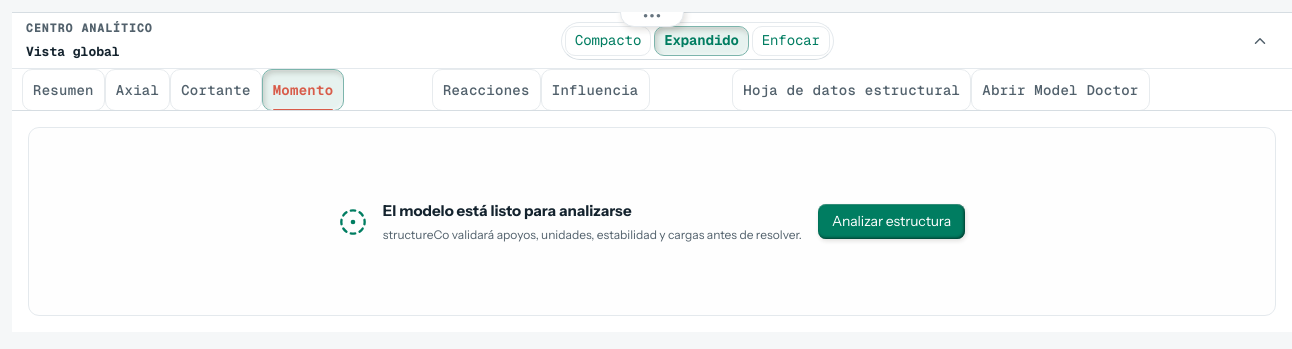
Test: Results analytical center › keeps a solved run legible in the collapsed dock
Click the button "Analizar estructura" at (892, 222), box [818,204,965,239]
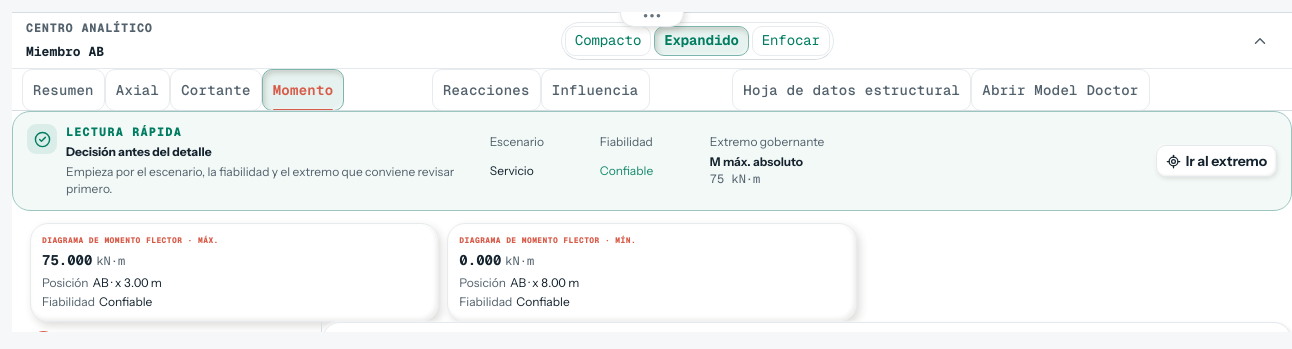
Click the button named "Cerrar resultados" at (1260, 41), box [1242,23,1278,59]
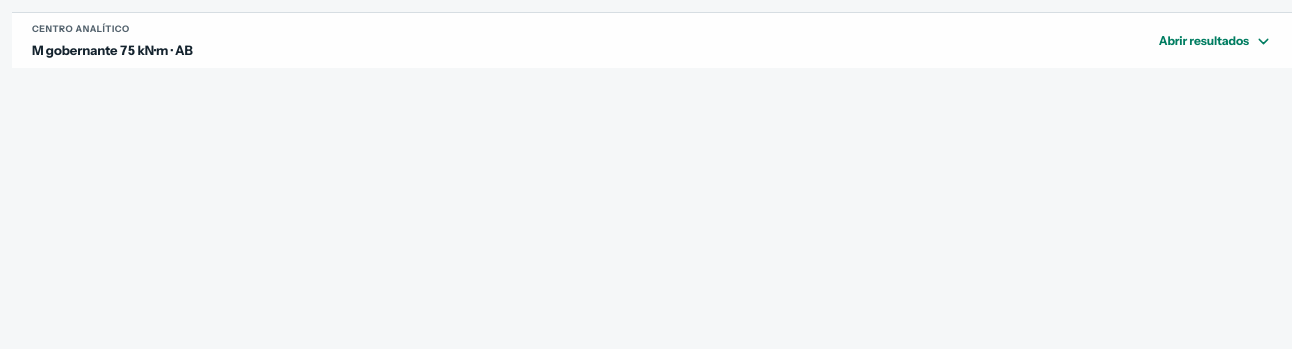
Expected: the text with test id "results-collapsed-governing" reads "M gobernante 75 kN·m · AB", [32,42,193,58]
